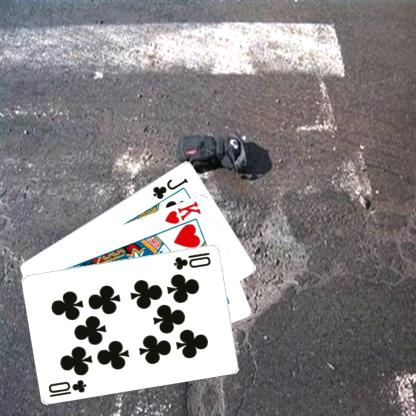10C: (171, 249, 213, 270), (45, 377, 87, 398)
JC: (150, 175, 189, 201)
KH: (162, 198, 202, 226)
